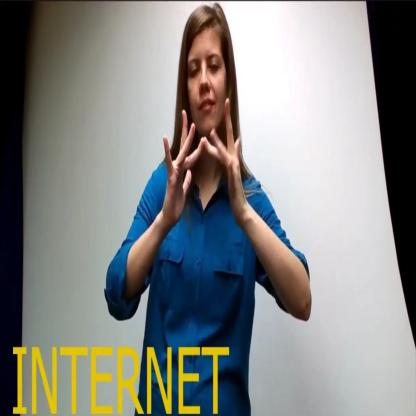Internet: (159, 99, 253, 225)
